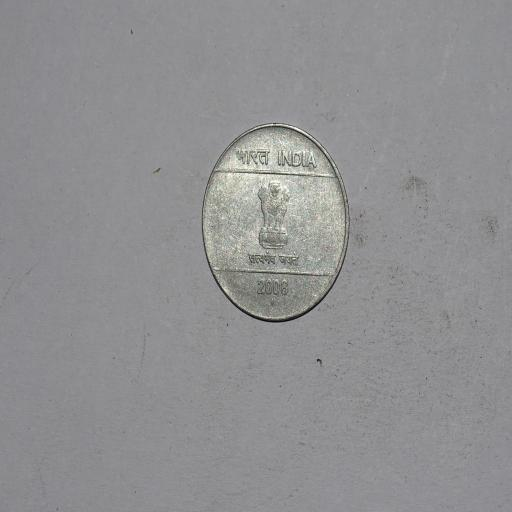rupee2: (201, 124, 348, 322)
